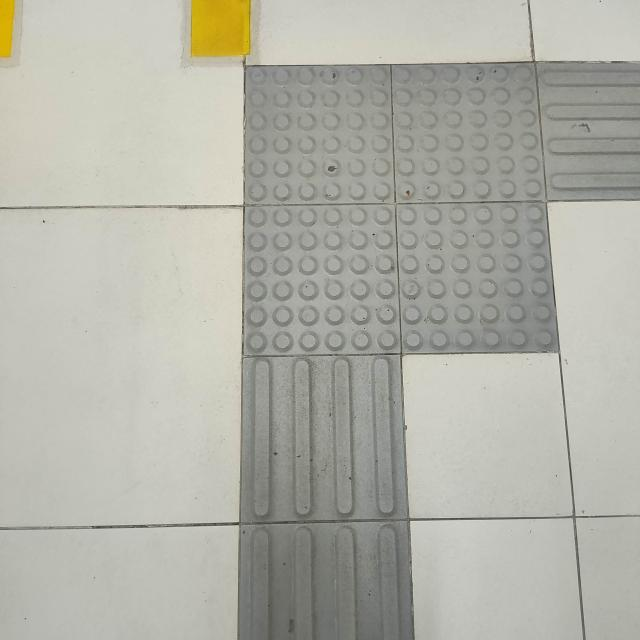kanan: (140, 34, 640, 462)
